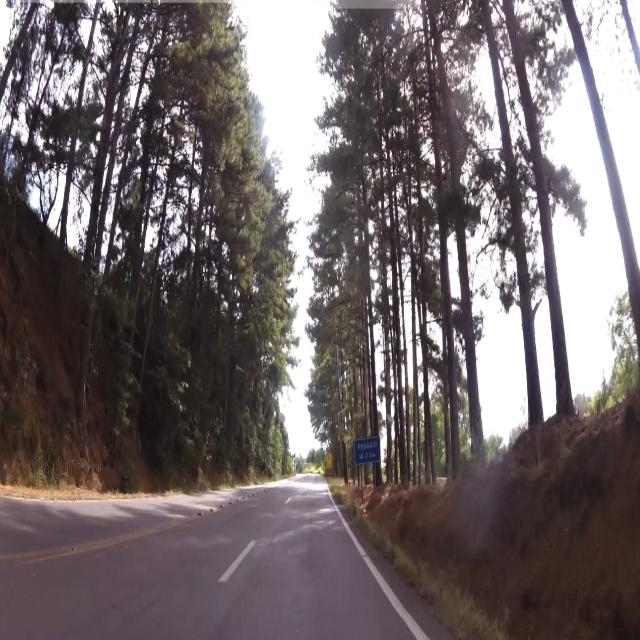LOC-6: (354, 440, 383, 463)
